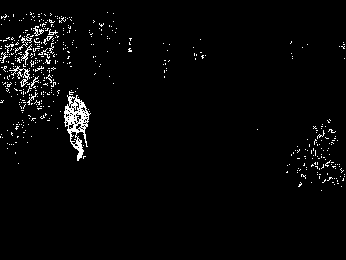person: (63, 89, 89, 162)
